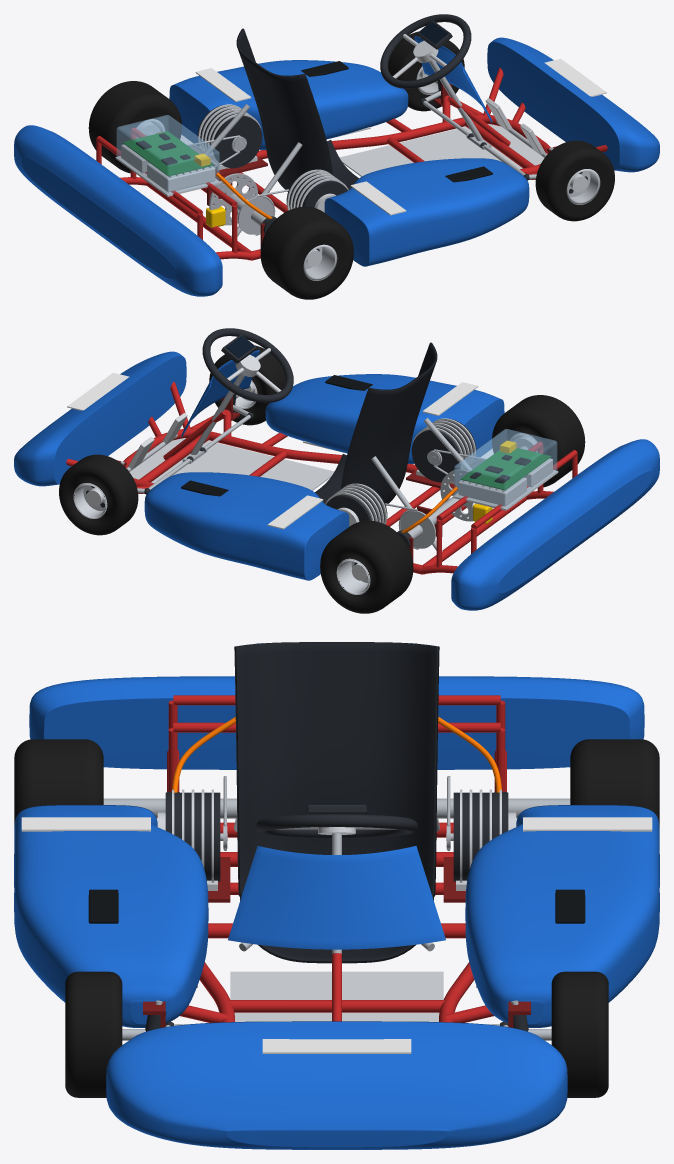
File: gokart-assembly.glb
The picture shows the model from 3 angles, top to bottom: view 1: azimuth 30°, elevation 25°; view 2: azimuth 150°, elevation 25°; view 3: azimuth 270°, elevation 25°; orthographic projection. The views are drawn at different scales.
Visible parts, largest first — view 1: body, wheels, chassis, drivetrain, seat, electronics, steering; view 2: body, wheels, chassis, seat, drivetrain, electronics, steering; view 3: body, seat, wheels, chassis, drivetrain, steering, battery.
Boxes of the visible parts, left/top/right/bottom form: body: left=14, top=36, right=659, bottom=296; wheels: left=88, top=31, right=614, bottom=299; chassis: left=96, top=67, right=607, bottom=260; drivetrain: left=136, top=104, right=348, bottom=235; seat: left=236, top=28, right=358, bottom=191; electronics: left=115, top=115, right=220, bottom=196; steering: left=380, top=14, right=553, bottom=180; body: left=14, top=350, right=659, bottom=610; wheels: left=59, top=345, right=585, bottom=613; chassis: left=66, top=381, right=577, bottom=574; seat: left=315, top=342, right=437, bottom=505; drivetrain: left=325, top=418, right=537, bottom=549; electronics: left=453, top=429, right=558, bottom=510; steering: left=120, top=328, right=293, bottom=494; body: left=14, top=676, right=659, bottom=1149; seat: left=234, top=642, right=439, bottom=963; wheels: left=14, top=739, right=659, bottom=1097; chassis: left=143, top=695, right=530, bottom=1027; drivetrain: left=103, top=776, right=570, bottom=890; steering: left=122, top=804, right=551, bottom=1040; battery: left=171, top=717, right=502, bottom=792.
Size of the model in its own units: 1.93 by 0.5937 by 1.3.
